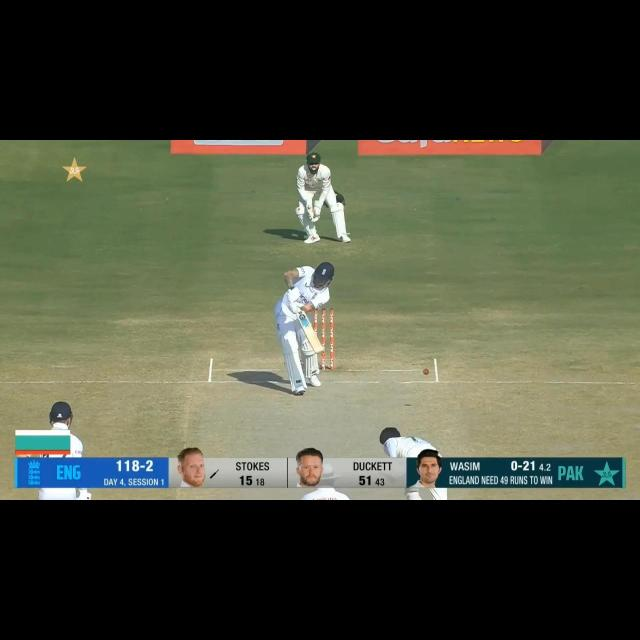bat: (294, 308, 326, 359)
toe: (310, 339, 326, 356)
